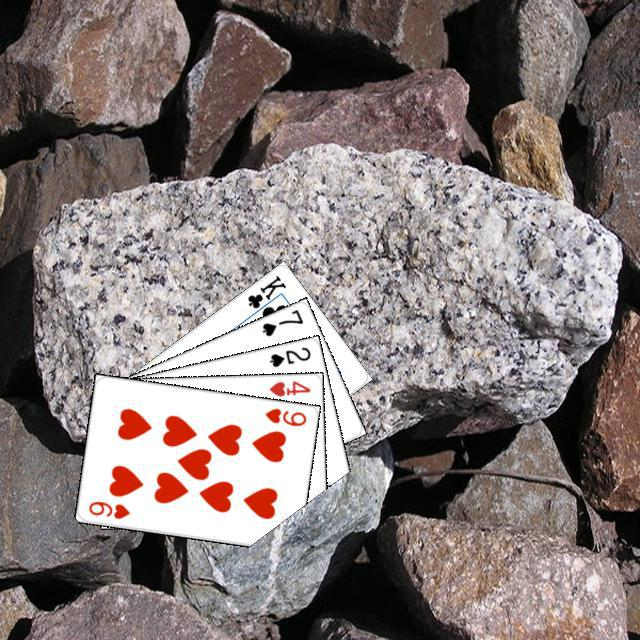2s: (265, 342, 312, 369)
4h: (264, 376, 312, 398)
7s: (257, 305, 305, 338)
9h: (83, 496, 132, 521), (260, 403, 308, 428)
Kc: (242, 270, 288, 318)
